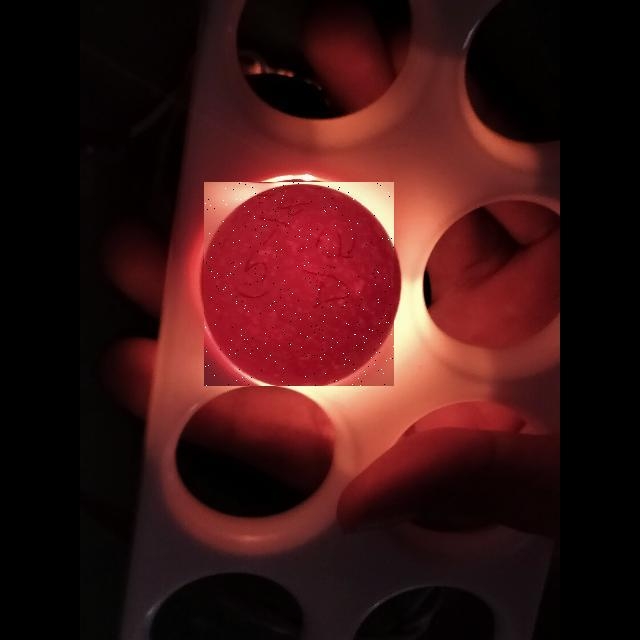Infertile: (204, 182, 394, 386)
